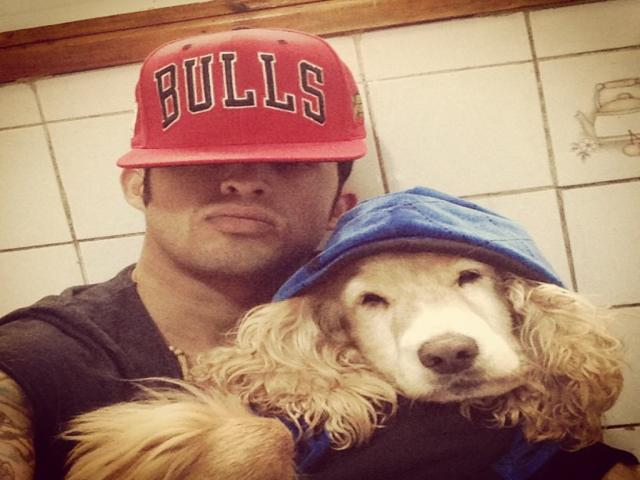Dog: (53, 184, 639, 479)
